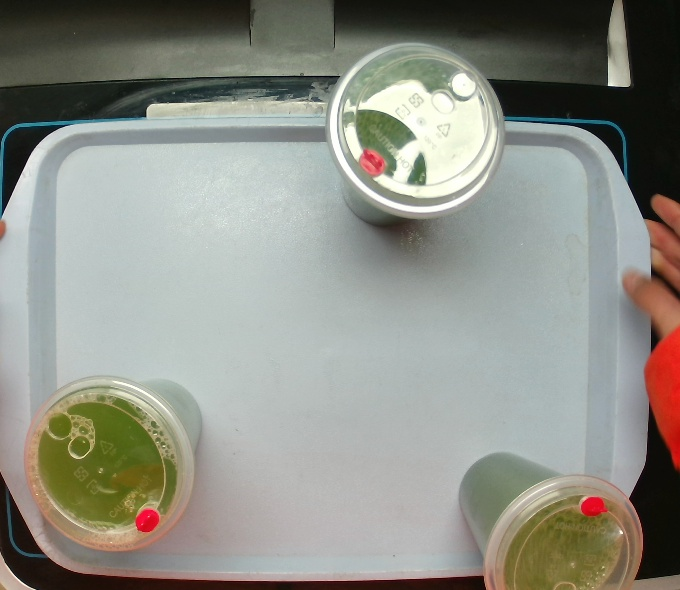wcq-HuangGuaZhi: (323, 39, 507, 229), (20, 369, 203, 554), (457, 451, 646, 590)
